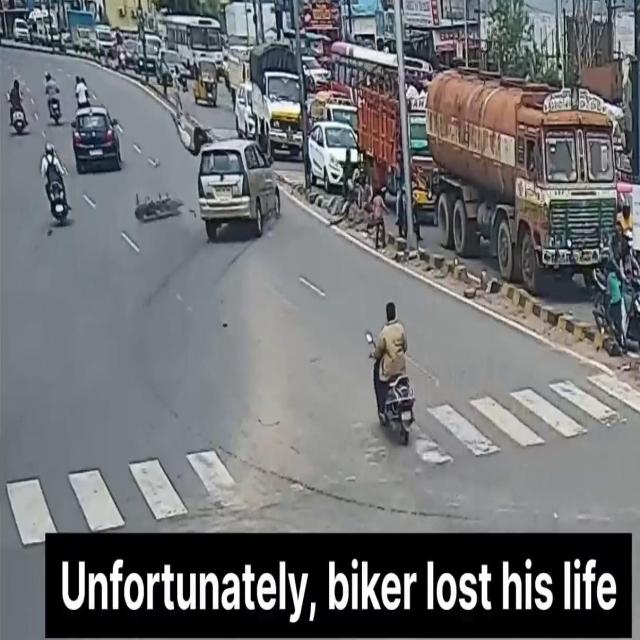accident: (123, 95, 290, 253)
non_accident: (421, 63, 640, 357), (306, 36, 420, 237), (1, 0, 219, 97), (218, 30, 302, 164)
